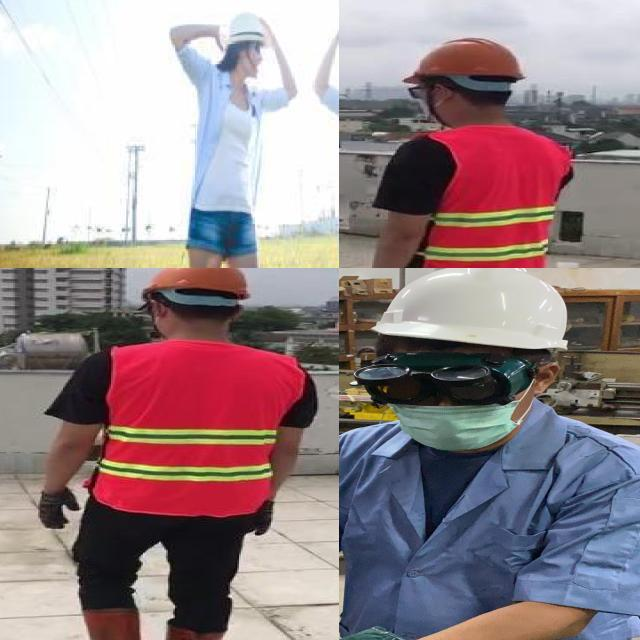No_Ear-Protection: (535, 362, 562, 395)
boots: (66, 608, 144, 640), (155, 622, 230, 640)
face_mask: (388, 400, 519, 452)
face_nomask: (245, 38, 265, 76)
glasses: (354, 353, 537, 405)
hand_glove: (38, 491, 81, 530), (244, 498, 276, 535)
head_helmet: (372, 268, 568, 349), (397, 36, 530, 80), (127, 268, 258, 304)
head_nohelmet: (222, 8, 274, 46)
person: (23, 268, 325, 640), (341, 28, 574, 268), (165, 5, 296, 268)
vest: (95, 344, 299, 517), (403, 126, 569, 268)
